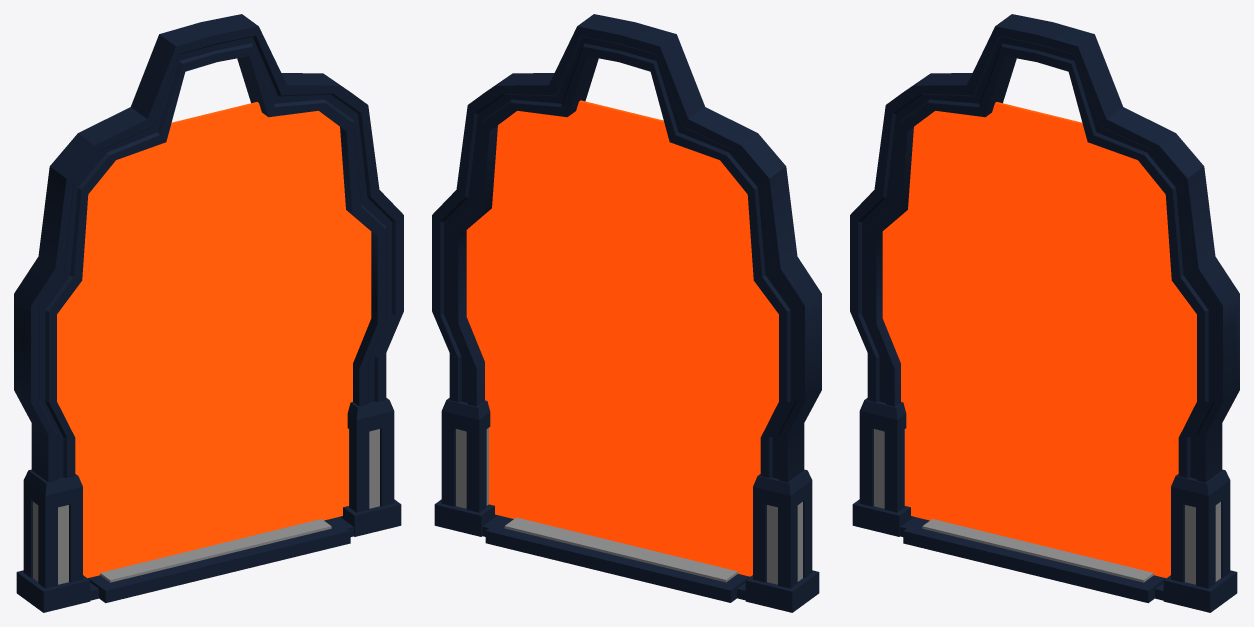
The model's file is _ortal.FBX.
3 views of the same model, side by side, from view 1: azimuth 30°, elevation 25°; view 2: azimuth 150°, elevation 25°; view 3: azimuth 330°, elevation 25° (orthographic).
Parts seen in each view (by area): view 1: Plane001, Box003fwqefewq, Box001, Box007, Box003fwqefewq_Part_1, Box004, Box003fwqefewq_Part_5, Box003fwqefewq_Part_3, Box006, Box008, Box003fwqefewq_Part_2, Box005 (+2 smaller); view 2: Plane001, Box003fwqefewq, Box001, Box007, Box003fwqefewq_Part_5, Box004, Box003fwqefewq_Part_3, Box006, Box003fwqefewq_Part_2, Box003fwqefewq_Part_1, Box008, Box005 (+2 smaller); view 3: Plane001, Box003fwqefewq, Box003fwqefewq_Part_5, Box001, Box004, Box007, Box003fwqefewq_Part_1, Box006, Box003fwqefewq_Part_2, Box005, Box003fwqefewq_Part_3, Box008 (+2 smaller).
Part boxes in pixels (left/top/right/bottom): Plane001: left=57, top=102, right=371, bottom=578; Box003fwqefewq: left=14, top=14, right=403, bottom=482; Box001: left=88, top=518, right=350, bottom=603; Box007: left=23, top=469, right=82, bottom=588; Box003fwqefewq_Part_1: left=14, top=34, right=183, bottom=320; Box004: left=347, top=398, right=394, bottom=512; Box003fwqefewq_Part_5: left=159, top=14, right=401, bottom=247; Box003fwqefewq_Part_3: left=14, top=310, right=68, bottom=481; Box006: left=100, top=519, right=331, bottom=582; Box008: left=16, top=570, right=90, bottom=612; Box003fwqefewq_Part_2: left=353, top=242, right=403, bottom=405; Box005: left=340, top=499, right=401, bottom=536; Plane001: left=466, top=100, right=778, bottom=576; Box003fwqefewq: left=432, top=14, right=821, bottom=482; Box001: left=485, top=517, right=750, bottom=602; Box007: left=753, top=469, right=812, bottom=588; Box003fwqefewq_Part_5: left=432, top=17, right=675, bottom=248; Box004: left=441, top=398, right=490, bottom=512; Box003fwqefewq_Part_3: left=760, top=310, right=821, bottom=481; Box006: left=504, top=517, right=737, bottom=582; Box003fwqefewq_Part_2: left=432, top=238, right=484, bottom=406; Box003fwqefewq_Part_1: left=652, top=46, right=821, bottom=321; Box008: left=745, top=570, right=819, bottom=612; Box005: left=434, top=499, right=497, bottom=536; Plane001: left=882, top=102, right=1196, bottom=578; Box003fwqefewq: left=850, top=14, right=1239, bottom=482; Box003fwqefewq_Part_5: left=994, top=14, right=1239, bottom=328; Box001: left=903, top=518, right=1165, bottom=603; Box004: left=1171, top=469, right=1230, bottom=588; Box007: left=859, top=398, right=906, bottom=512; Box003fwqefewq_Part_1: left=850, top=30, right=1013, bottom=240; Box006: left=922, top=519, right=1153, bottom=582; Box003fwqefewq_Part_2: left=1190, top=318, right=1239, bottom=482; Box005: left=1163, top=570, right=1237, bottom=612; Box003fwqefewq_Part_3: left=850, top=230, right=900, bottom=406; Box008: left=852, top=499, right=913, bottom=536.
Size of the model in its own units: 172 by 235 by 30.27.
